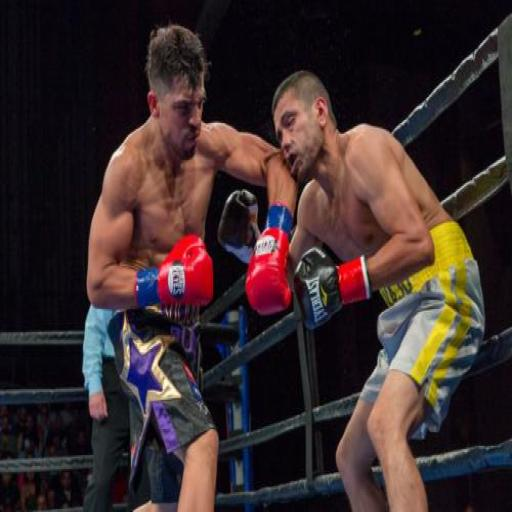boxing: (52, 38, 358, 503), (242, 57, 484, 512)
